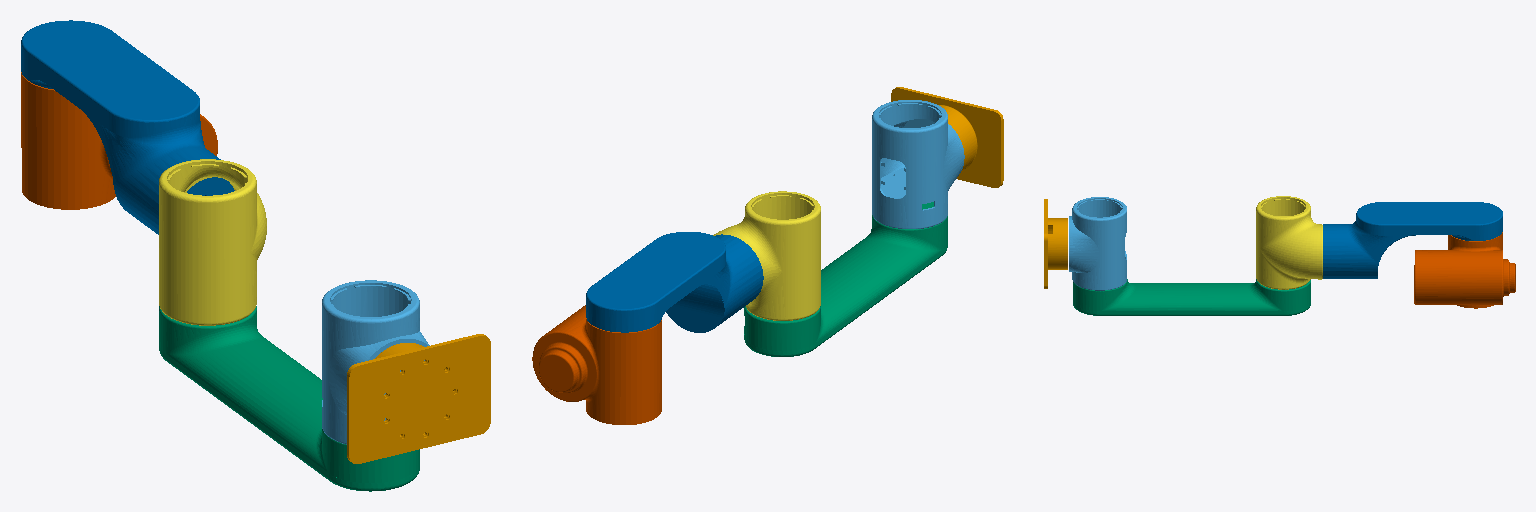
The robot description file, URDF, robot "robotic_arm":
<?xml version="1.0"?>
<robot name="robotic_arm">
  <link name="link_0">
    <visual>
      <geometry>
        <mesh filename="link0.STL" />
      </geometry>
      <origin xyz="0 0 0" rpy="0 0 0" />
    </visual>
  </link>

  <joint name="joint_1" type="revolute">
    <parent link="link_0" />
    <child link="link_1" />
    <origin xyz="0 0.04 0" rpy="0 0 0" />
    <axis xyz="0 1 0" />
    <limit lower="-3.14" upper="3.14" effort="10.0" velocity="1.0" />
  </joint>

  <link name="link_1">
    <visual>
      <geometry>
        <mesh filename="link1.STL"/>
      </geometry>
      <origin xyz="0 0 0 " rpy="0 0 0" />
    </visual>
  </link>

  <joint name="joint_2" type="revolute">
    <parent link="link_1" />
    <child link="link_2" />
    <origin xyz="0 0.0506 -0.1" rpy="1.57 0  1.57 " />
    <axis xyz="0 1 0" />
    <limit lower="-3.14" upper="3.14" effort="10.0" velocity="1.0" />
  </joint>

   <link name="link_2">
    <visual>
      <geometry>
        <mesh filename="link2.STL"/>
      </geometry>
      <origin xyz="0.1225 0.037 0.046" rpy="0 0 0" />
    </visual>
  </link>

  <joint name="joint_3" type="revolute">
    <parent link="link_2" />
    <child link="link_3" />
    <origin xyz="0.3 0.037 0" rpy="0 0 0" />
    <axis xyz="0 1 0" />
    <limit lower="-3.14" upper="3.14" effort="10.0" velocity="1.0" />
  </joint>

  <link name="link_3">
    <visual>
      <geometry>
        <mesh filename="link3.STL" />
      </geometry>
      <origin xyz="0 0 0" rpy="0 2.69 0" />
    </visual>
  </link>

  <joint name="joint_4" type="revolute">
    <parent link="link_3" />
    <child link="link_4" />
    <origin xyz="0.074 0.065 0.035" rpy="0 0 0" />
    <axis xyz="1 0 0" />
    <limit lower="-3.14" upper="3.14" effort="10.0" velocity="1.0" />
  </joint>

  <link name="link_4">
    <visual>
      <geometry>
        <mesh filename="link4.STL" />
      </geometry>
      <origin xyz="0.24 0.07 0" rpy="3.14 3.14 0" />
    </visual>
  </link>

   <joint name="joint_5" type="revolute">
    <parent link="link_4" />
    <child link="link_5" />
    <origin xyz="0.24 0.039 0" rpy="0 0 0" />
    <axis xyz="0 1 0" />
    <limit lower="-3.14" upper="3.14" effort="10.0" velocity="1.0" />
  </joint>

  <link name="link_5">
    <visual>
      <geometry>
        <mesh filename="link5.STL" />
      </geometry>
      <origin xyz="0 0 0" rpy="3.14 0 0" />
    </visual>
  </link>
</robot>

--- Render facts (derived) ---
3 views of the same robot in one strip: view 1: azimuth 30°, elevation 25°; view 2: azimuth 150°, elevation 25°; view 3: azimuth 270°, elevation 25° (orthographic).
Robot: robotic_arm — 6 links, 5 joints (5 revolute); root link link_0; default pose: every joint at zero.
Visible links, largest first — view 1: link_4, link_2, link_3, link_0, link_5, link_1; view 2: link_4, link_5, link_2, link_1, link_3, link_0; view 3: link_4, link_2, link_5, link_3, link_1, link_0.
Boxes of the visible links, bbox=[...] form: link_4: bbox=[21, 20, 234, 234]; link_2: bbox=[159, 306, 419, 491]; link_3: bbox=[159, 159, 266, 325]; link_0: bbox=[347, 334, 490, 463]; link_5: bbox=[21, 72, 217, 209]; link_1: bbox=[322, 280, 429, 444]; link_4: bbox=[586, 232, 763, 332]; link_5: bbox=[532, 305, 661, 424]; link_2: bbox=[744, 202, 947, 356]; link_1: bbox=[872, 100, 964, 228]; link_3: bbox=[713, 191, 820, 320]; link_0: bbox=[891, 87, 1003, 187]; link_4: bbox=[1323, 202, 1502, 278]; link_2: bbox=[1073, 279, 1310, 315]; link_5: bbox=[1414, 232, 1515, 308]; link_3: bbox=[1256, 196, 1322, 289]; link_1: bbox=[1069, 197, 1126, 290]; link_0: bbox=[1044, 199, 1067, 288].
Size in the robot's own frame: 0.2106 by 0.7695 by 0.1826 metres.
6 mesh visuals loaded from 6 distinct referenced files (6 binary STL).
